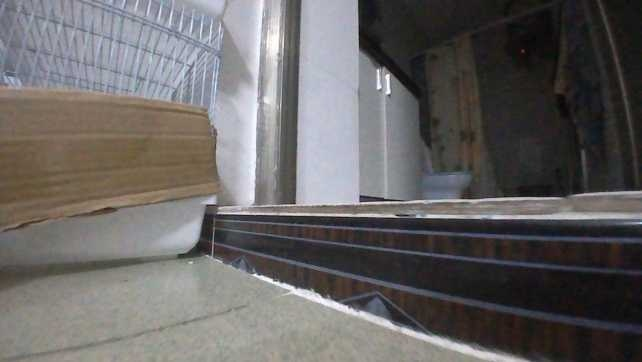door_sill: (207, 198, 640, 361)
toilet: (420, 161, 475, 206)
